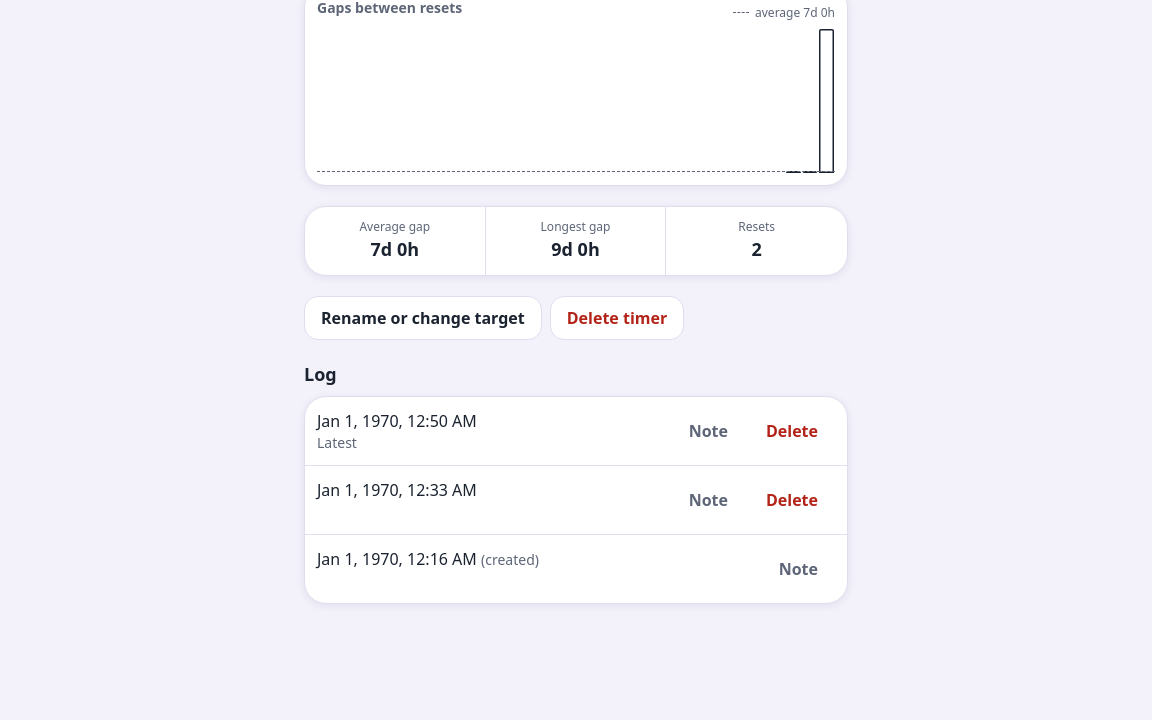
Test case: TimerDetail › updates the gap graph after a log entry is deleted
The image size is (1152, 720).
(page scrolled)
Click the button "Delete" in the row of "Jan 1, 1970, 12:33 AM": (792, 500) top-left (749, 478), bottom-right (835, 522)
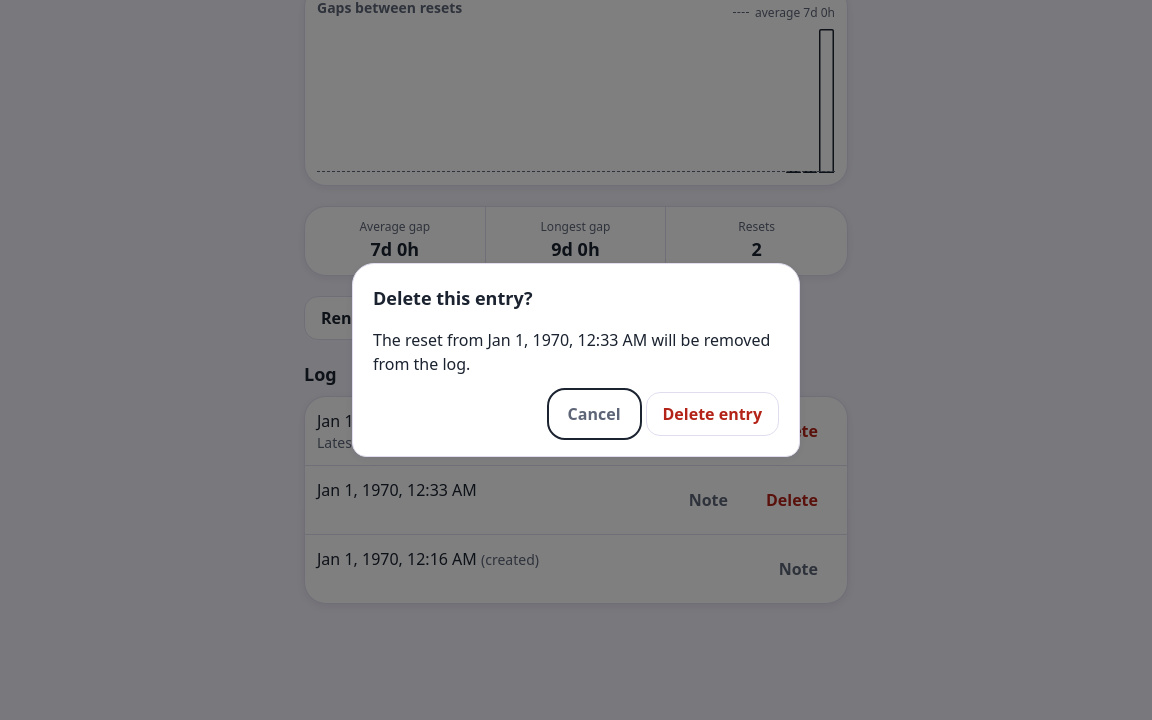
Click the button "Delete entry": (712, 414) top-left (646, 392), bottom-right (779, 436)
(page scrolled)
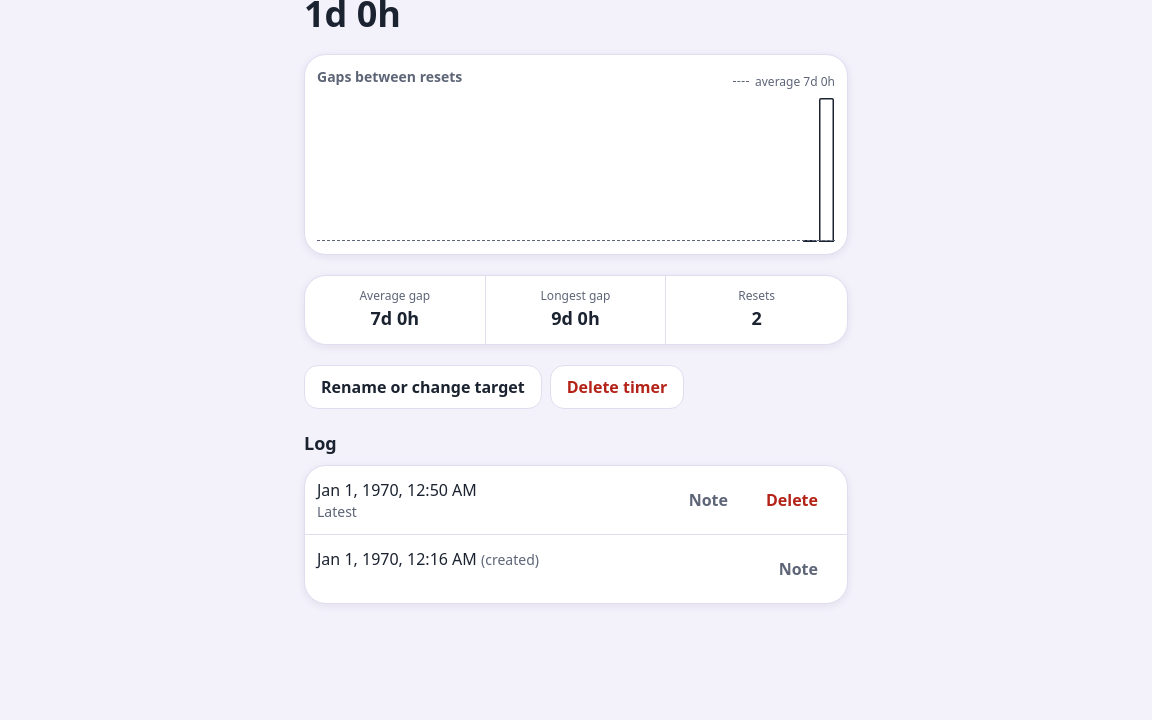
Now the number of buttons with test id "gap-bar" is 1, box top-left (802, 98), bottom-right (818, 242)
